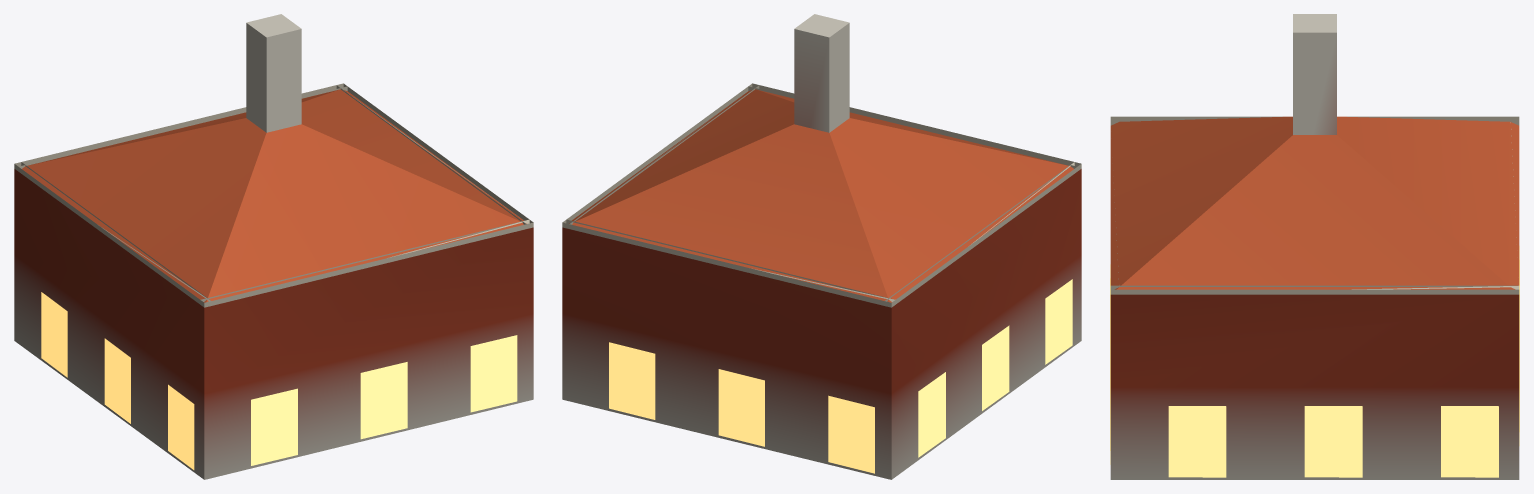
Rendered from manor_2.glb.
3 renders of one model, left to right at view 1: azimuth 30°, elevation 25°; view 2: azimuth 150°, elevation 25°; view 3: azimuth 270°, elevation 25°, orthographic. The views are drawn at different scales.
Visible parts, largest first — view 1: manor_2__wall_0_xb, manor_2__wall_3_xb, manor_2_roof_front_xb, manor_2_roof_left_xb, manor_2__manor_2__storefront_0, manor_2_roof_right_xb, manor_2__chimney_xb, manor_2__manor_2__storefront_3, manor_2__cornice_0_xb, manor_2__cornice_2_xb, manor_2__cornice_3_xb, manor_2__cornice_1_xb (+1 smaller); view 2: manor_2__wall_2_xb, manor_2__wall_3_xb, manor_2_roof_back_xb, manor_2_roof_left_xb, manor_2__manor_2__storefront_2, manor_2_roof_right_xb, manor_2__chimney_xb, manor_2__manor_2__storefront_3, manor_2__cornice_2_xb, manor_2__cornice_0_xb, manor_2__cornice_3_xb, manor_2__cornice_1_xb (+2 smaller); view 3: manor_2__wall_1_xb, manor_2_roof_right_xb, manor_2_roof_front_xb, manor_2_roof_back_xb, manor_2__manor_2__storefront_1, manor_2__chimney_xb, manor_2__cornice_1_xb, manor_2__cornice_3_xb, manor_2__wall_0_xb.
Part boxes in pixels (x1,y1,x2,y2): manor_2__wall_0_xb: (202,227,533,479); manor_2__wall_3_xb: (14,170,208,479); manor_2_roof_front_xb: (206,124,523,302); manor_2_roof_left_xb: (22,118,266,302); manor_2__manor_2__storefront_0: (251,335,517,465); manor_2_roof_right_xb: (301,89,526,223); manor_2__chimney_xb: (246,14,301,132); manor_2__manor_2__storefront_3: (41,292,194,469); manor_2__cornice_0_xb: (200,219,533,307); manor_2__cornice_2_xb: (14,83,347,170); manor_2__cornice_3_xb: (14,162,211,307); manor_2__cornice_1_xb: (336,83,533,227); manor_2__wall_2_xb: (562,228,893,479); manor_2__wall_3_xb: (887,170,1081,478); manor_2_roof_back_xb: (572,124,889,302); manor_2_roof_left_xb: (829,118,1073,302); manor_2__manor_2__storefront_2: (609,342,874,473); manor_2_roof_right_xb: (569,89,794,223); manor_2__chimney_xb: (794,14,849,132); manor_2__manor_2__storefront_3: (918,279,1072,457); manor_2__cornice_2_xb: (562,219,895,307); manor_2__cornice_0_xb: (748,83,1081,170); manor_2__cornice_3_xb: (885,162,1080,306); manor_2__cornice_1_xb: (562,84,759,228); manor_2__wall_1_xb: (1110,294,1519,479); manor_2_roof_right_xb: (1117,135,1512,289); manor_2_roof_front_xb: (1110,116,1292,289); manor_2_roof_back_xb: (1337,116,1519,289); manor_2__manor_2__storefront_1: (1168,406,1498,477); manor_2__chimney_xb: (1293,14,1336,134); manor_2__cornice_1_xb: (1110,285,1519,294); manor_2__cornice_3_xb: (1110,116,1519,125); manor_2__wall_0_xb: (1110,294,1115,479).
Bounding box in the file's own units: 1.4 × 1.4 × 1.4.
